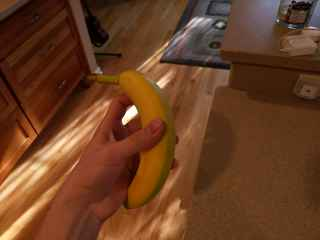banana: (78, 68, 178, 212)
